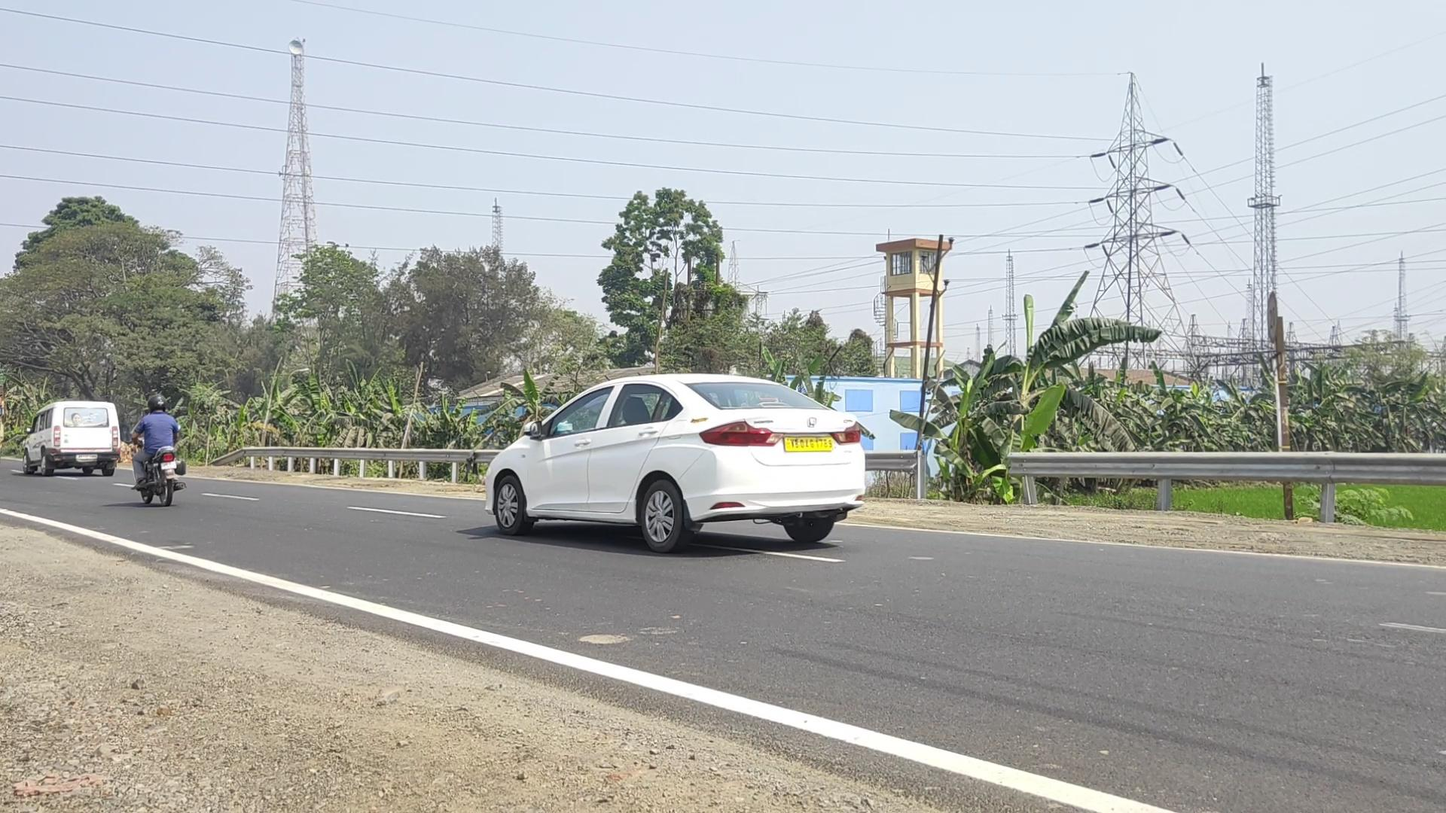bike: (129, 394, 187, 507)
car: (484, 373, 866, 555), (23, 400, 121, 477)
